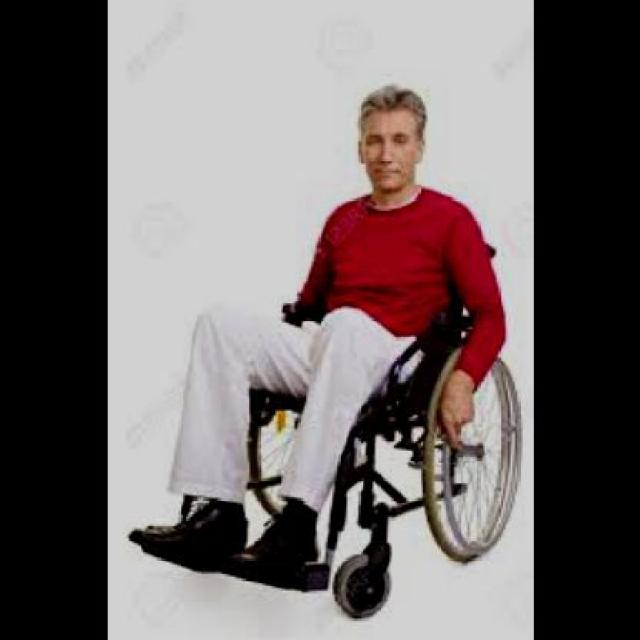wheelchairs: (138, 241, 528, 621)
